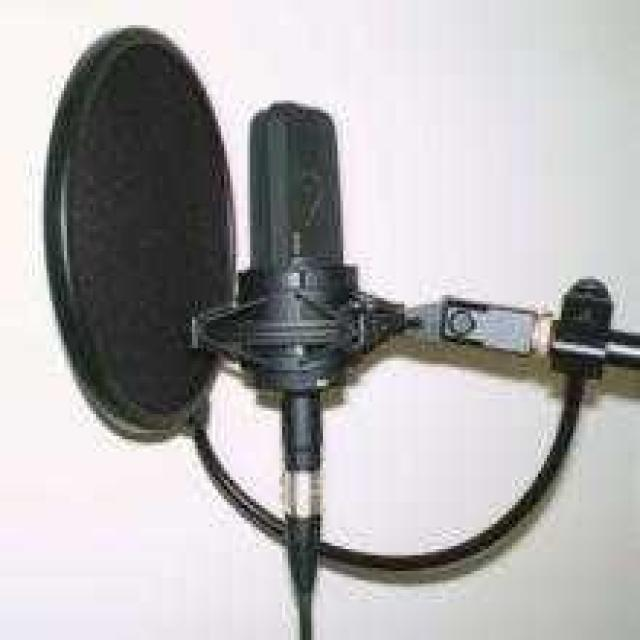microphone: (227, 59, 396, 424)
